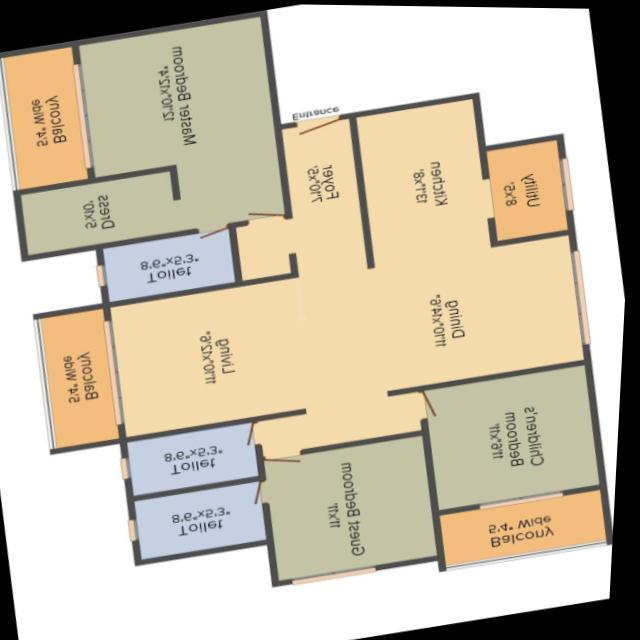Balcony-Sitout: (0, 40, 92, 191), (36, 299, 125, 450), (486, 457, 572, 590)
Bedroom: (428, 357, 611, 511)
Bedroom with Toilet: (19, 11, 291, 302), (135, 431, 446, 581)
Dining: (380, 229, 594, 393)
Dress: (18, 164, 184, 258)
Enterance-Foyer: (273, 84, 361, 175)
Kitchen: (357, 95, 493, 261)
Living: (112, 276, 313, 433)
Toilet: (139, 480, 276, 560), (102, 224, 239, 304), (130, 417, 266, 497)
Utility: (485, 136, 577, 241)
